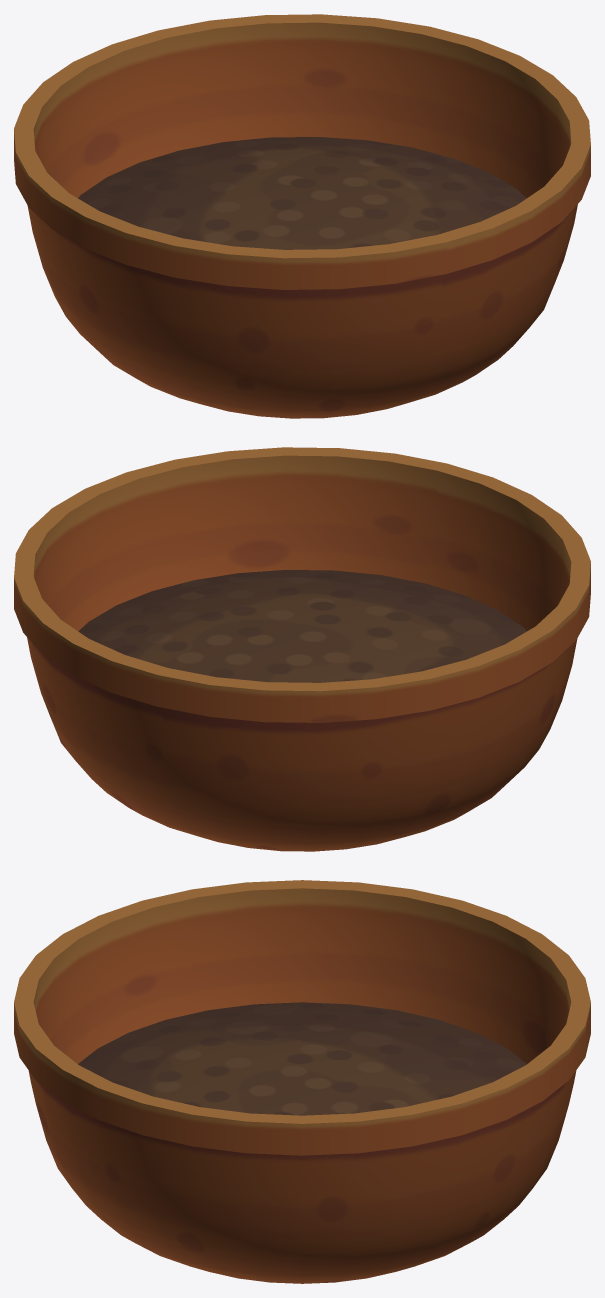
Rendered from PlantPot04.fbx.
The picture shows the model from 3 angles, top to bottom: view 1: azimuth 30°, elevation 25°; view 2: azimuth 150°, elevation 25°; view 3: azimuth 270°, elevation 25°; orthographic projection.
Parts seen in each view (by area): view 1: Circle.001; view 2: Circle.001; view 3: Circle.001.
Boxes of the visible parts, x1,y1,x2,y2 form: Circle.001: [14, 14, 590, 418]; Circle.001: [14, 447, 590, 851]; Circle.001: [14, 880, 590, 1283].
Size of the model in its own units: 1.44 by 0.6076 by 1.44.
